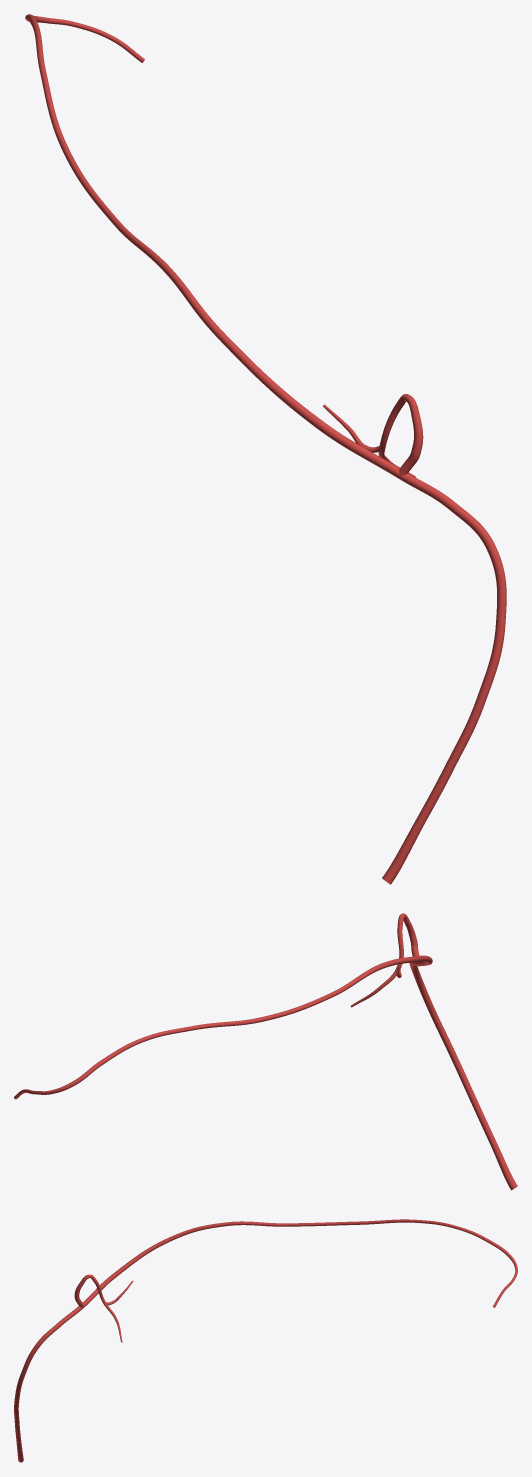
The picture shows the model from 3 angles, top to bottom: view 1: azimuth 30°, elevation 25°; view 2: azimuth 150°, elevation 25°; view 3: azimuth 270°, elevation 25°; orthographic projection. The views are drawn at different scales.
Visible parts, largest first — view 1: 左侧颈横动脉深支; view 2: 左侧颈横动脉深支; view 3: 左侧颈横动脉深支.
Part boxes in pixels (<box>): 左侧颈横动脉深支: <box>25,14,506,884</box>; 左侧颈横动脉深支: <box>14,913,517,1190</box>; 左侧颈横动脉深支: <box>14,1219,517,1462</box>.
Bounding box in the file's own units: 0.0757 × 0.1479 × 0.2628.
